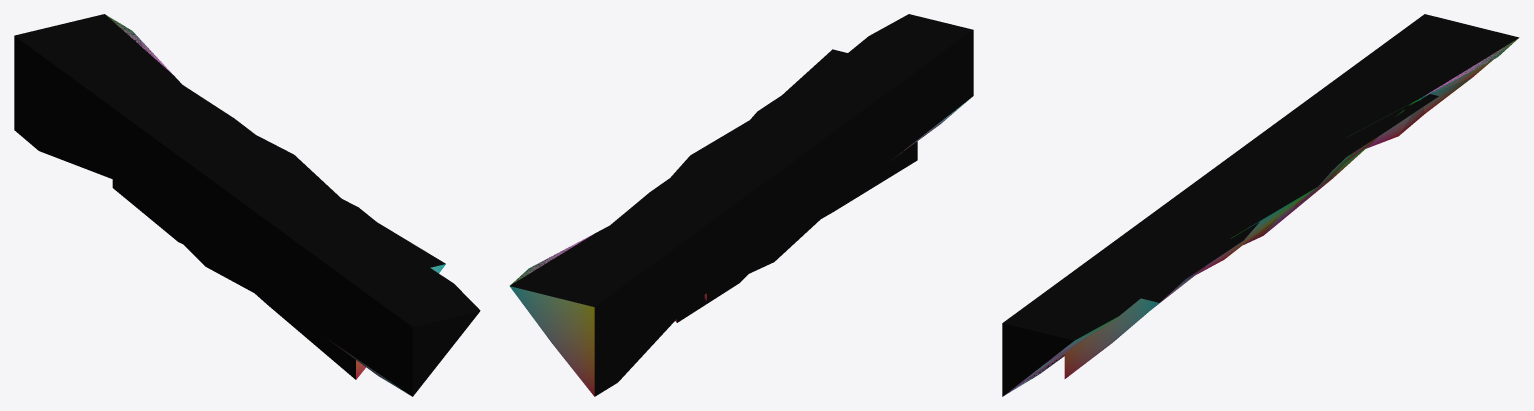
Rendered from BlocksR.fbx.
The picture shows the model from 3 angles, left to right: view 1: azimuth 30°, elevation 25°; view 2: azimuth 150°, elevation 25°; view 3: azimuth 330°, elevation 25°; orthographic projection. The views are drawn at different scales.
Visible parts, largest first — view 1: BlocksR; view 2: BlocksR; view 3: BlocksR.
Boxes of the visible parts, x1,y1,x2,y2 form: BlocksR: (14, 14, 480, 396); BlocksR: (509, 14, 973, 396); BlocksR: (1002, 14, 1519, 396).
Bounding box in the file's own units: 30.43 × 30.27 × 225.
